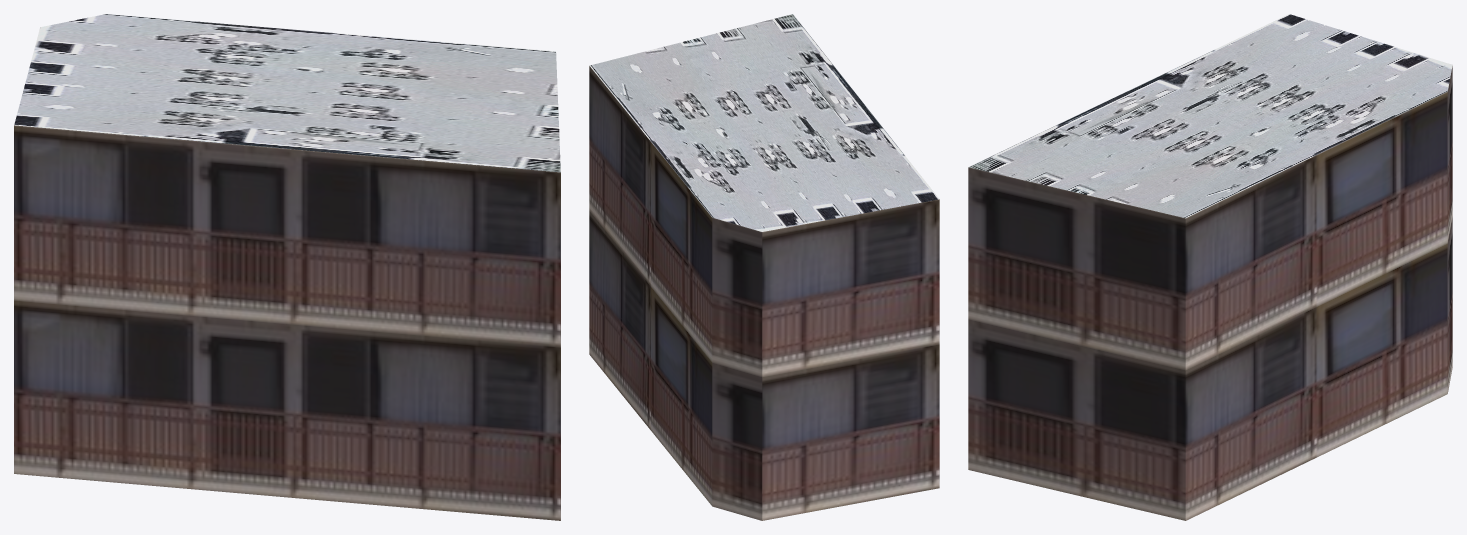
File: ResTex__2261.fbx
The picture shows the model from 3 angles, left to right: view 1: azimuth 30°, elevation 25°; view 2: azimuth 150°, elevation 25°; view 3: azimuth 270°, elevation 25°; orthographic projection. The views are drawn at different scales.
Visible parts, largest first — view 1: CityEngineMaterial_6_m, CityEngineMaterial_4_m; view 2: CityEngineMaterial_6_m, CityEngineMaterial_4_m; view 3: CityEngineMaterial_6_m, CityEngineMaterial_4_m.
Part boxes in pixels (x1=…): CityEngineMaterial_6_m: x1=14, y1=125, x2=560, y2=520; CityEngineMaterial_4_m: x1=14, y1=14, x2=560, y2=172; CityEngineMaterial_6_m: x1=589, y1=66, x2=939, y2=520; CityEngineMaterial_4_m: x1=589, y1=14, x2=939, y2=231; CityEngineMaterial_6_m: x1=968, y1=66, x2=1452, y2=520; CityEngineMaterial_4_m: x1=969, y1=14, x2=1452, y2=218.
Size of the model in its own units: 8.69 by 6 by 8.7.
Materials: 2 (2 with a texture image).
